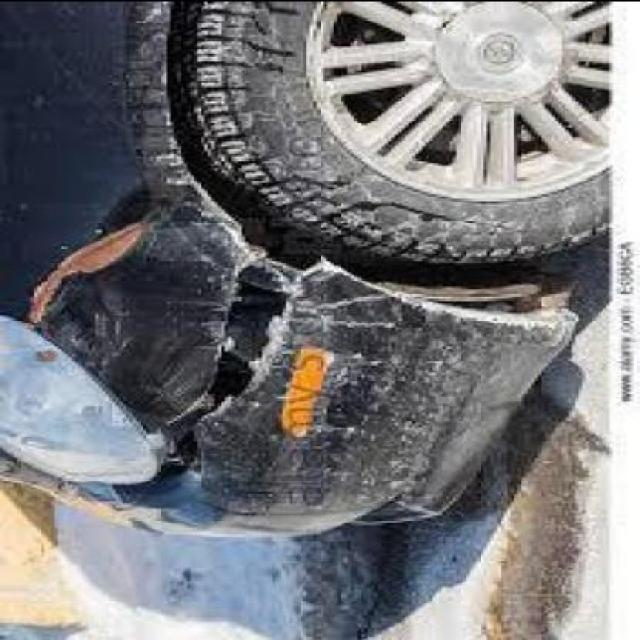damage: (24, 0, 589, 530)
